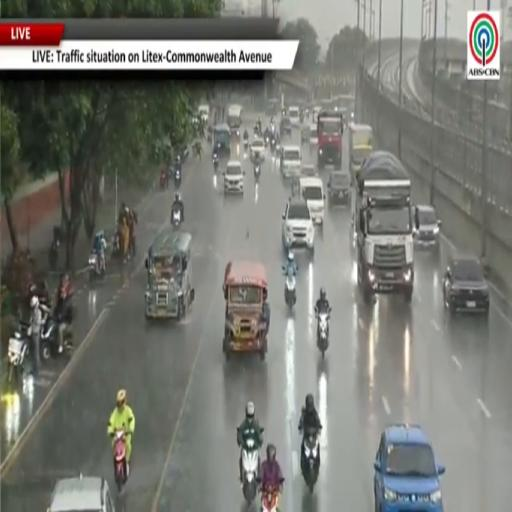car: (374, 424, 444, 511), (443, 255, 489, 316), (48, 476, 115, 511), (282, 198, 314, 253), (300, 178, 324, 226), (414, 205, 441, 247), (327, 170, 351, 205), (280, 146, 302, 178), (224, 160, 244, 194), (251, 138, 264, 161), (288, 106, 300, 126), (198, 104, 209, 123), (280, 117, 291, 136), (309, 123, 317, 148), (301, 165, 317, 177), (312, 106, 321, 125), (301, 127, 309, 143)
jeepney: (146, 228, 194, 319), (223, 261, 267, 360), (227, 105, 242, 137)
motorcycle: (242, 439, 259, 505), (301, 430, 319, 492), (7, 330, 28, 382), (41, 310, 59, 360), (114, 430, 128, 492), (316, 309, 330, 358), (48, 226, 62, 270), (283, 266, 296, 310), (89, 252, 105, 282), (261, 487, 279, 511), (49, 238, 59, 270), (112, 230, 122, 260), (171, 208, 182, 229), (160, 170, 169, 189), (174, 168, 181, 188), (253, 122, 261, 136), (254, 164, 260, 182), (270, 137, 276, 153), (213, 153, 218, 172), (264, 135, 269, 147), (244, 139, 248, 152)
truck: (353, 151, 413, 303), (317, 111, 343, 169), (349, 123, 373, 178)
